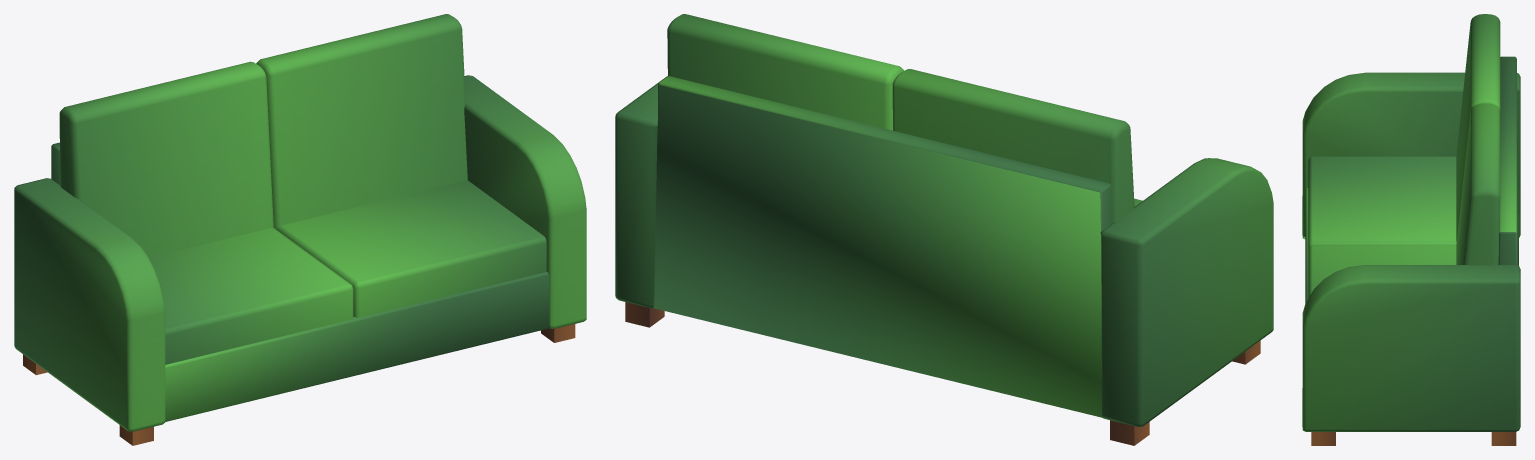
The model's file is Couch.FBX.
3 views of the same model, side by side, from view 1: azimuth 30°, elevation 25°; view 2: azimuth 150°, elevation 25°; view 3: azimuth 270°, elevation 25° (orthographic). The views are drawn at different scales.
Parts seen in each view (by area): view 1: ChamferBox006; view 2: ChamferBox006; view 3: ChamferBox006.
Part boxes in pixels (x1=…): ChamferBox006: x1=14, y1=14, x2=586, y2=445; ChamferBox006: x1=615, y1=14, x2=1273, y2=445; ChamferBox006: x1=1302, y1=14, x2=1520, y2=445.
Bounding box in the file's own units: 177 × 95.82 × 77.61.
1 material, 1 textured.
